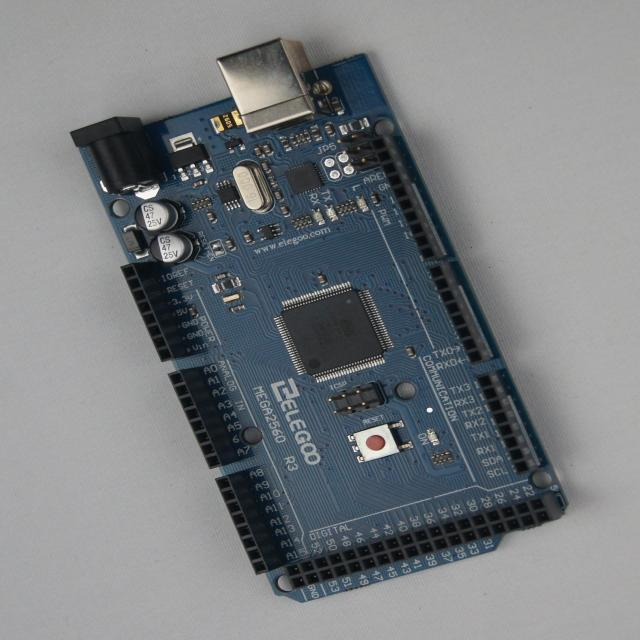Arduino Mega 2560 -Blue-: (72, 39, 567, 602)
